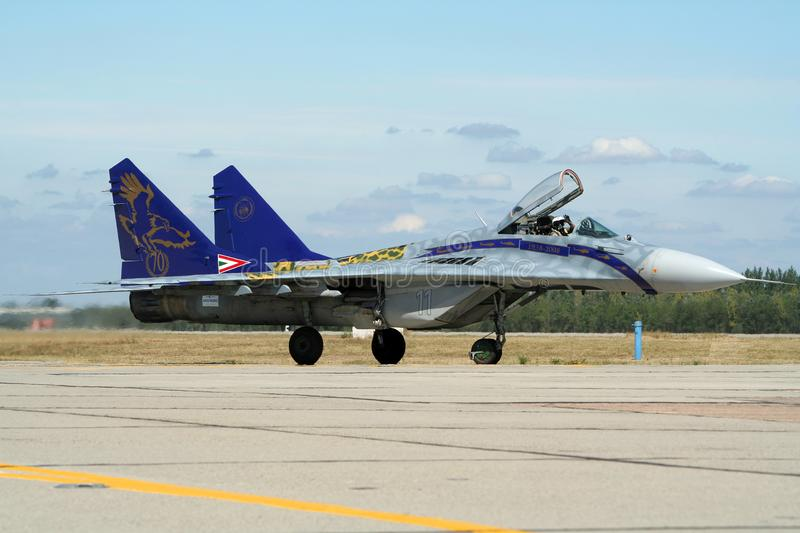Mig-29: (77, 122, 779, 375)
